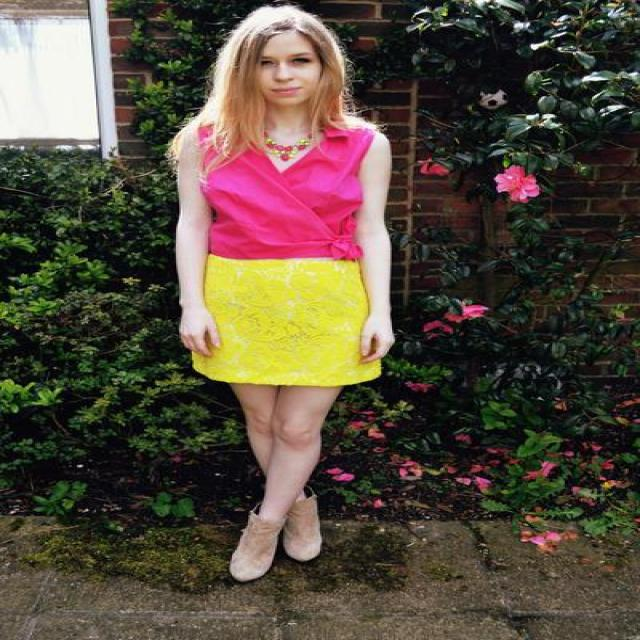shirt: (197, 116, 387, 262)
shoe: (230, 525, 320, 579)
skirt: (192, 256, 381, 385)
